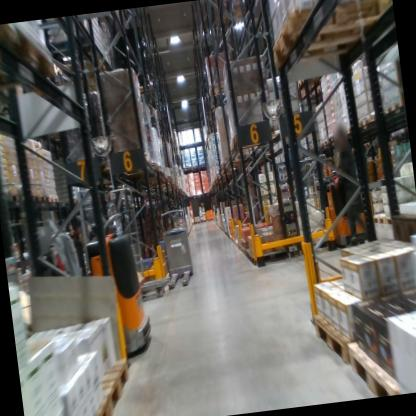pallet: (27, 189, 112, 416), (263, 0, 396, 59), (307, 298, 399, 383), (0, 21, 72, 103), (344, 332, 416, 398), (85, 350, 136, 416), (69, 52, 112, 87), (214, 1, 262, 31), (216, 152, 251, 170), (226, 137, 256, 156), (132, 75, 155, 98), (381, 97, 404, 119), (205, 79, 231, 98), (231, 129, 257, 148), (341, 119, 359, 145), (355, 114, 371, 136), (33, 187, 51, 204), (314, 136, 330, 155), (370, 210, 385, 229), (384, 213, 399, 230), (289, 76, 306, 91), (326, 130, 338, 149), (48, 192, 60, 206), (359, 140, 372, 151), (314, 85, 323, 96), (308, 93, 317, 101), (186, 165, 193, 172), (191, 164, 199, 170), (199, 164, 206, 170)
pallet_truck: (49, 189, 161, 366), (297, 133, 375, 252)
